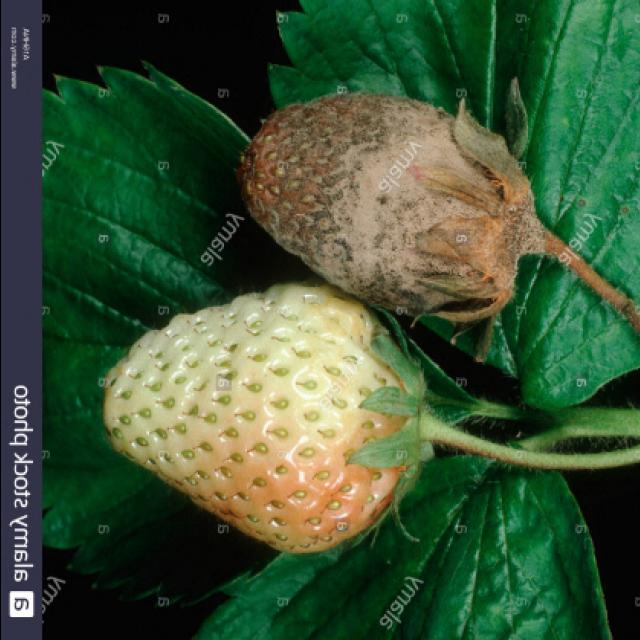Gray Mold: (241, 90, 557, 327)
